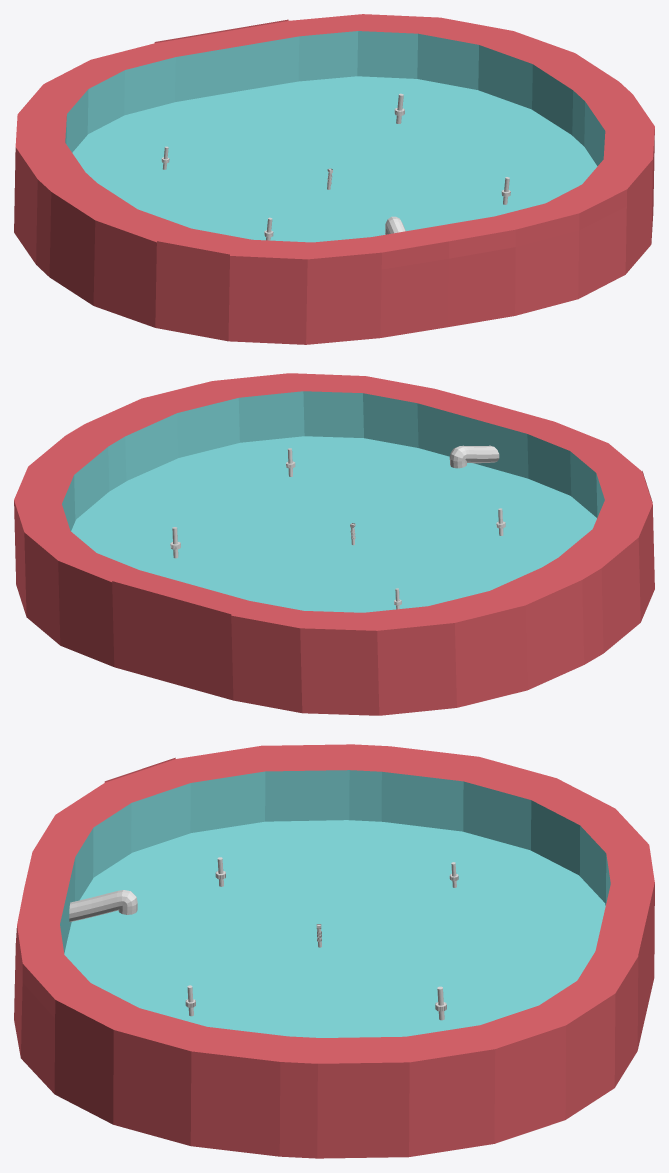
Rendered from Muntitled.fbx.
3 views of the same model, one above another, from view 1: azimuth 30°, elevation 25°; view 2: azimuth 150°, elevation 25°; view 3: azimuth 270°, elevation 25° (orthographic). The views are drawn at different scales.
Visible parts, largest first — view 1: BezierCurve; view 2: BezierCurve; view 3: BezierCurve.
Part boxes in pixels (box(x1,y1,x2,y2)): BezierCurve: box(14, 14, 654, 344); BezierCurve: box(14, 373, 654, 715); BezierCurve: box(14, 744, 654, 1158).
Size of the model in its own units: 760 by 857 by 148.
